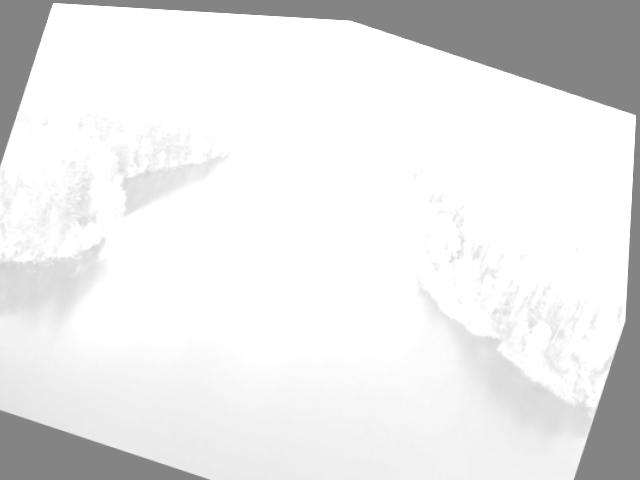hedef: (333, 150, 470, 259)
